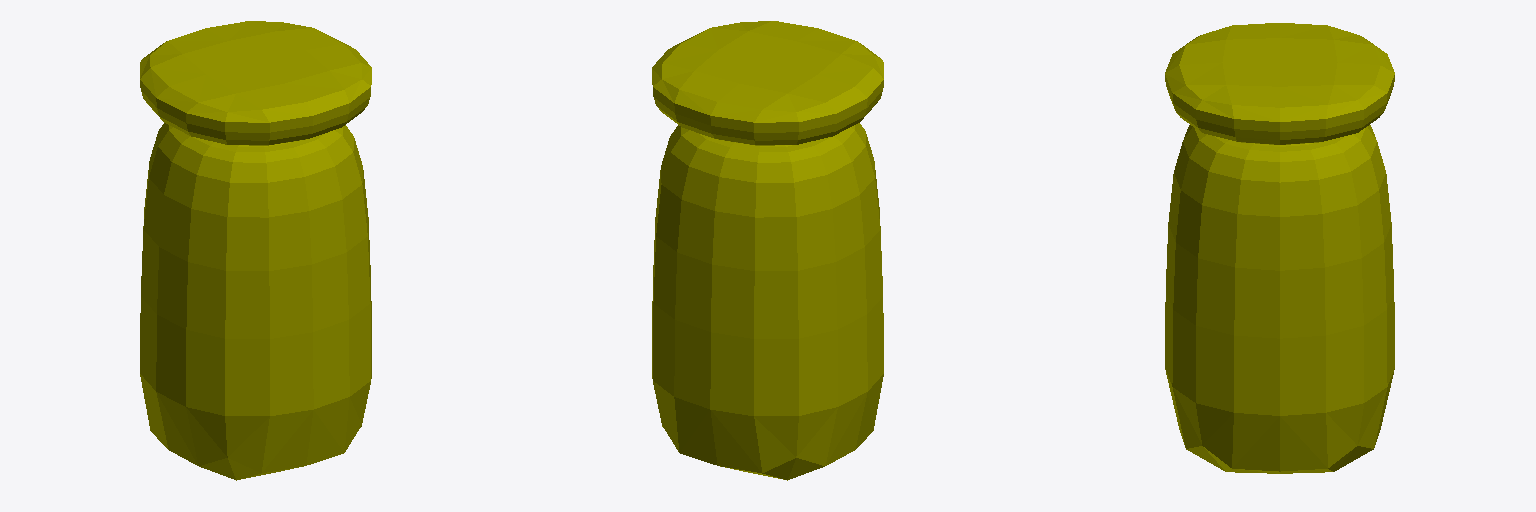
File: bugs-poison.obj
The picture shows the model from 3 angles: view 1: azimuth 30°, elevation 25°; view 2: azimuth 150°, elevation 25°; view 3: azimuth 270°, elevation 25°; orthographic projection.
Parts seen in each view (by area): view 1: BugPoison_Cube.1747; view 2: BugPoison_Cube.1747; view 3: BugPoison_Cube.1747.
Boxes of the visible parts, box(x1,y1,x2,y2) form: BugPoison_Cube.1747: box(140, 21, 371, 480); BugPoison_Cube.1747: box(652, 21, 883, 480); BugPoison_Cube.1747: box(1165, 23, 1394, 473).
Size of the model in its own units: 0.7496 by 1.39 by 0.7496.